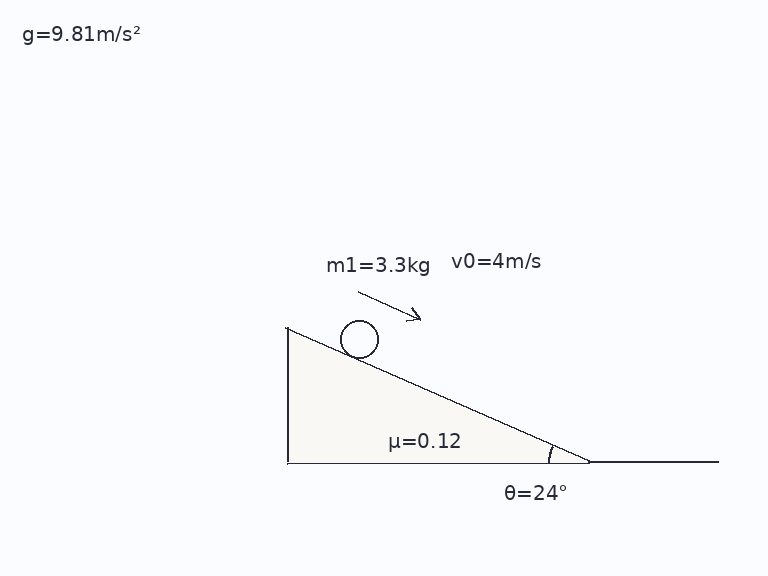ball: (338, 318, 380, 360)
ramp: (285, 325, 591, 464)
